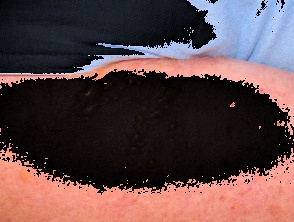SJS-TEN: (0, 43, 294, 222)
